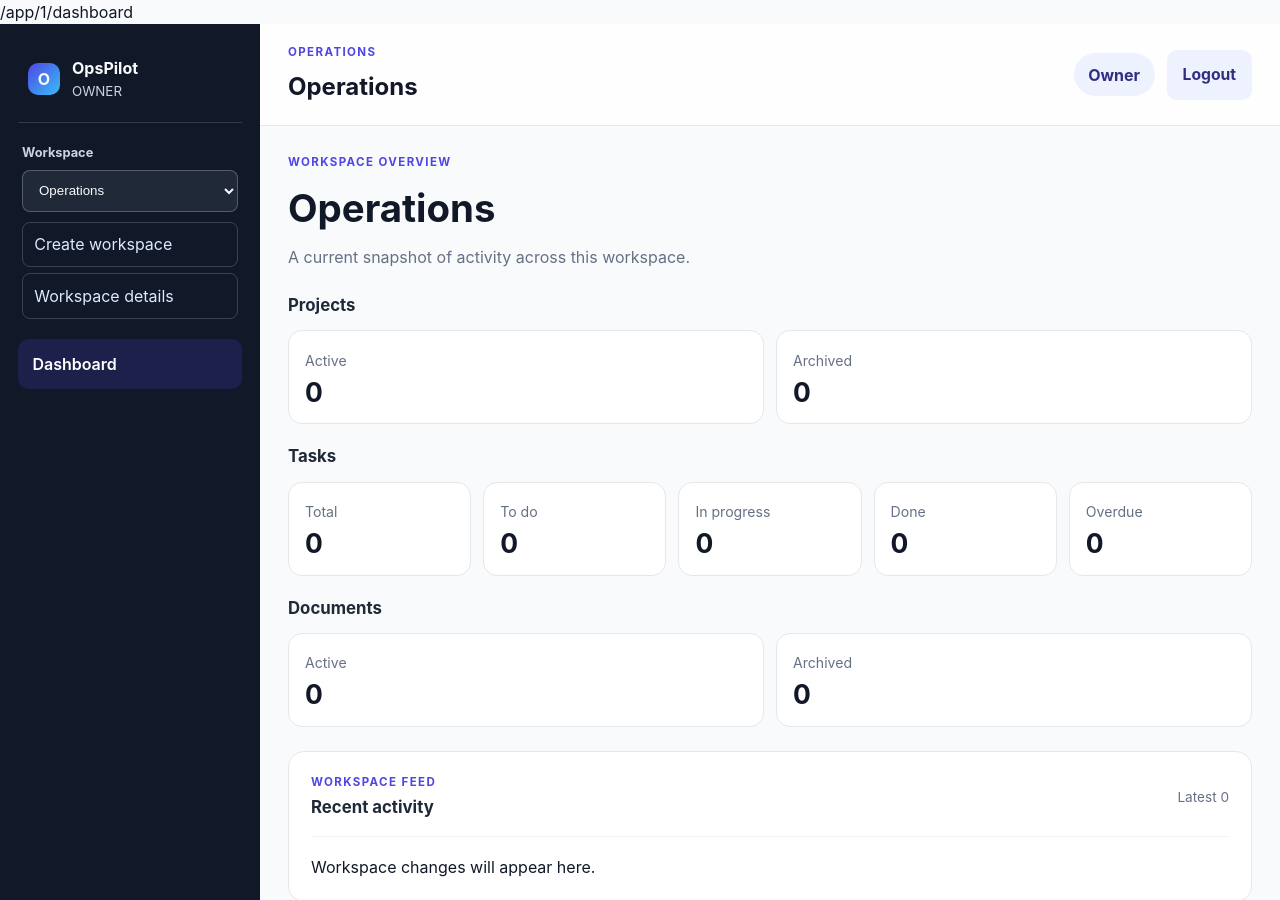
it: F2 workspace behavior › loads read-only members and lets an owner rename the workspace
Click the button "Workspace details": (130, 296) [22, 273, 238, 319]
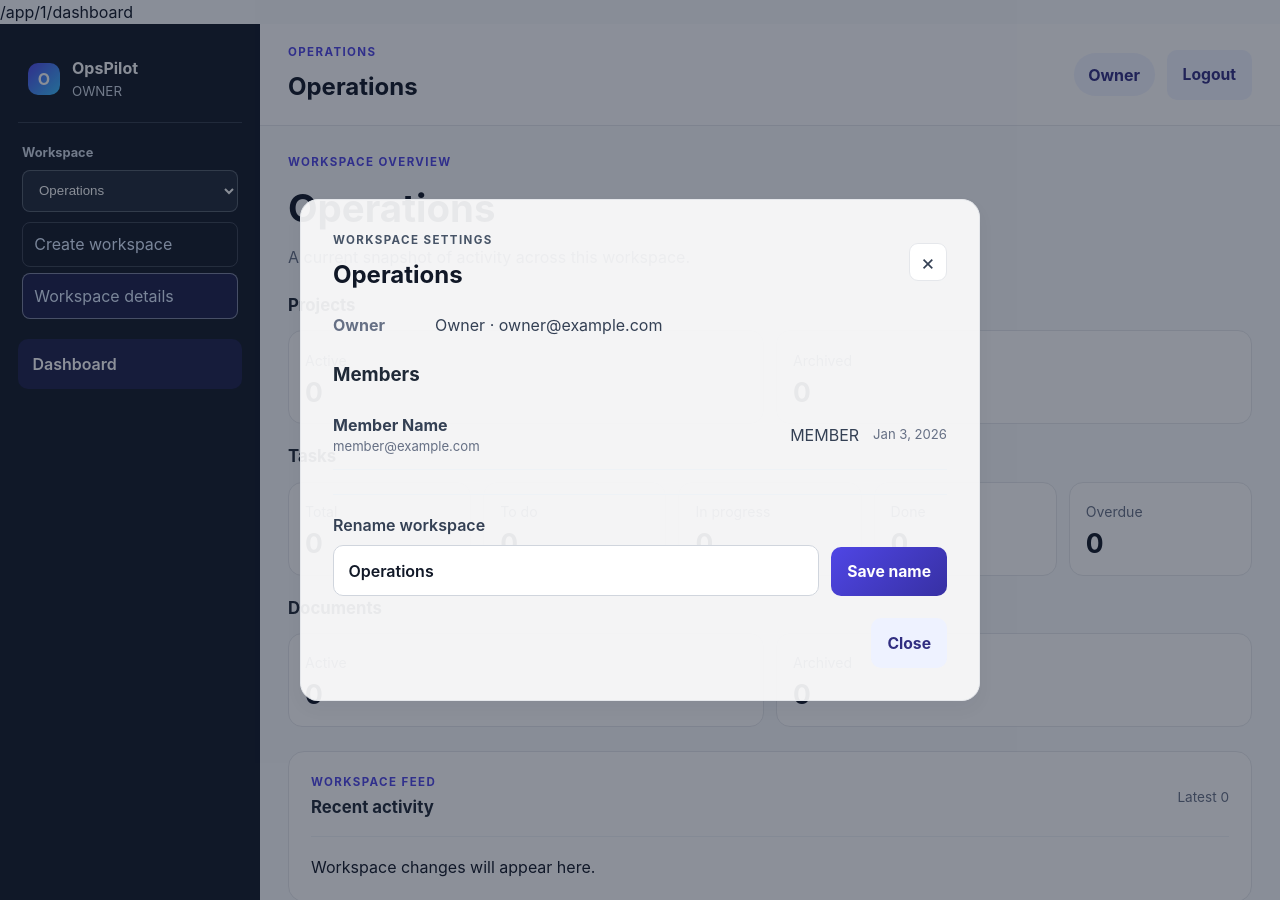
expect the text "Member Name" is shown: met, box [333, 415, 448, 435]
expect the text "member@example.com" is shown: met, box [333, 438, 480, 454]
expect the text "MEMBER" is shown: met, box [790, 423, 859, 447]
Replace the text in the field labelled "Rename workspace" with "Renamed": (576, 571) [333, 545, 819, 596]
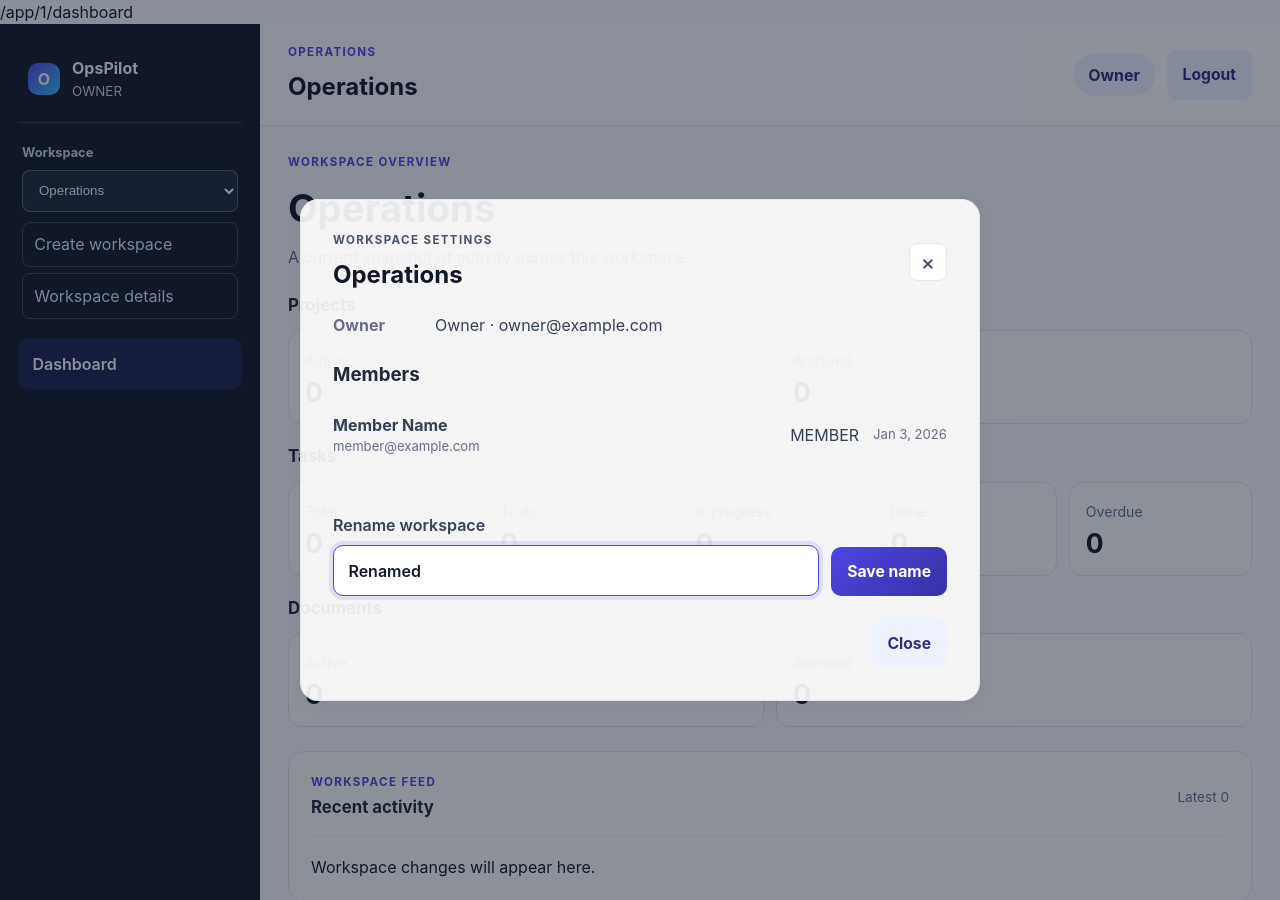
Click the button "Save name": (889, 572) [831, 547, 947, 596]
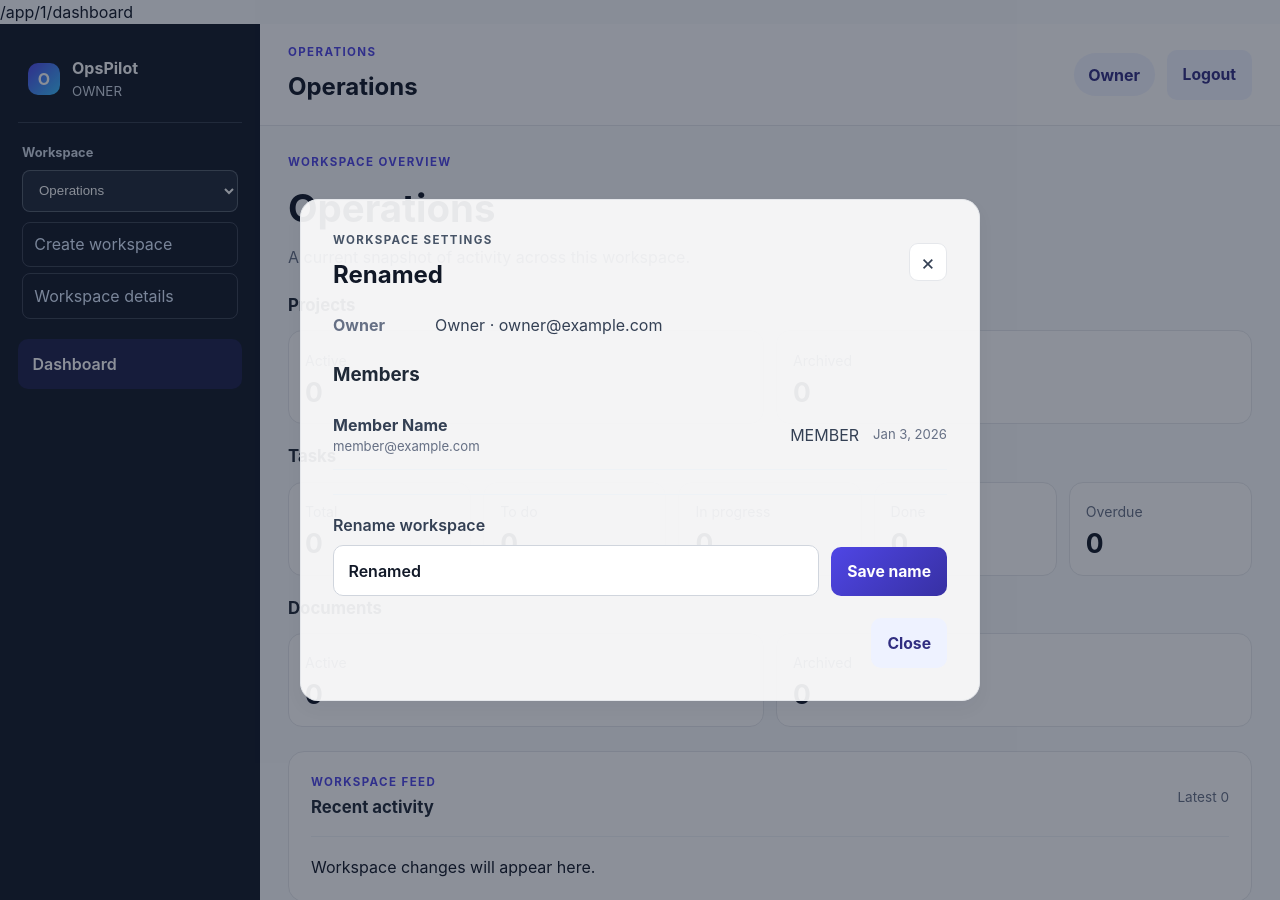
expect the heading "Renamed" is shown: met, box [333, 260, 443, 289]
